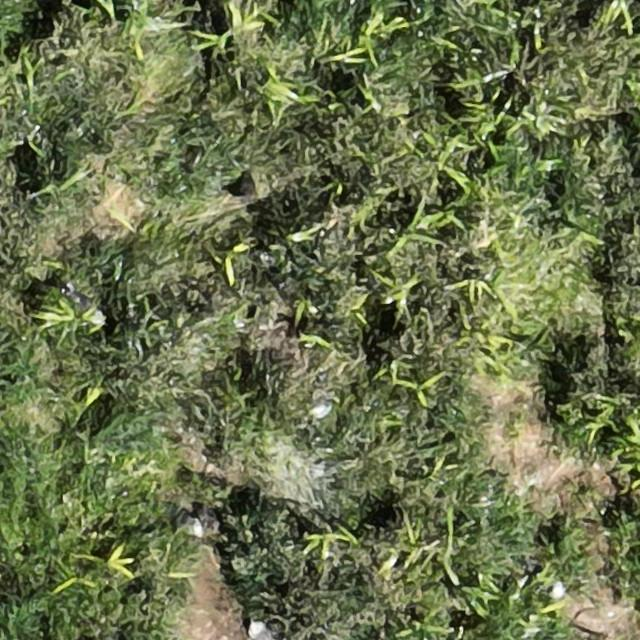umineko: (250, 621, 273, 639)
